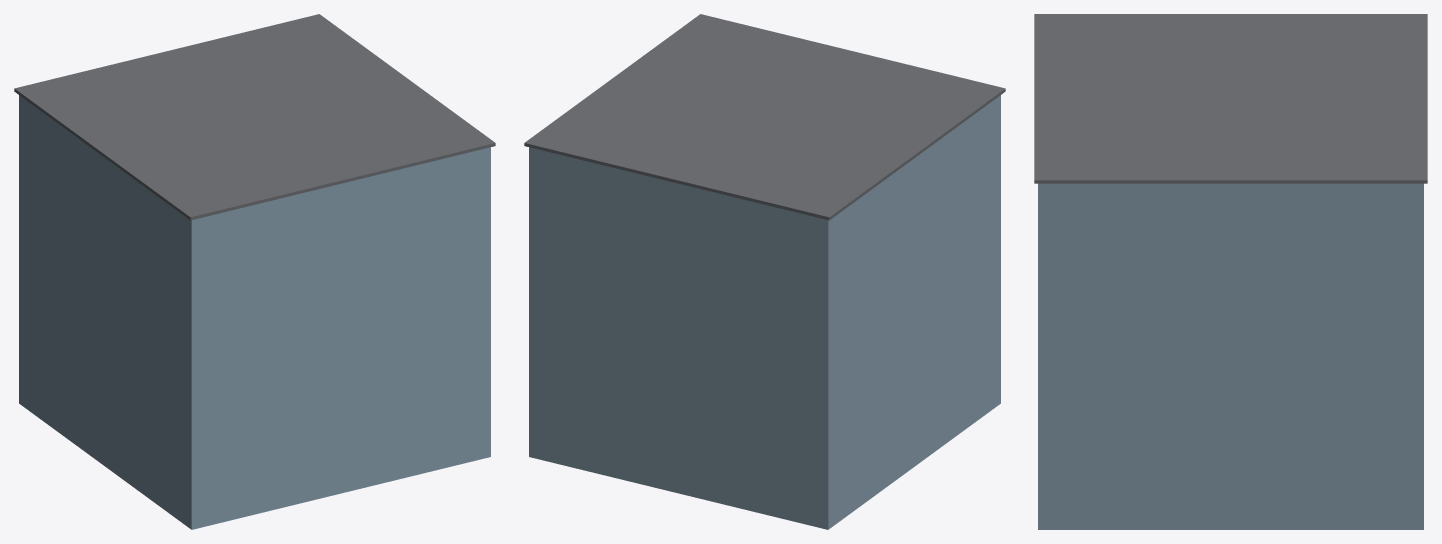
Rendered from block_blue.fbx.
3 renders of one model, left to right at view 1: azimuth 30°, elevation 25°; view 2: azimuth 150°, elevation 25°; view 3: azimuth 270°, elevation 25°, orthographic. The views are drawn at different scales.
Visible parts, largest first — view 1: block_blue; view 2: block_blue; view 3: block_blue.
Boxes of the visible parts, x1=… form: block_blue: x1=14, y1=14, x2=495, y2=529; block_blue: x1=524, y1=14, x2=1005, y2=529; block_blue: x1=1034, y1=14, x2=1427, y2=529.
Size of the model in its own units: 1.02 by 1 by 1.02.
